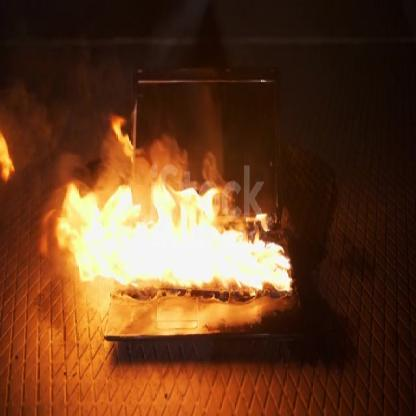fire: (58, 178, 296, 294)
smoke: (2, 0, 373, 259)
